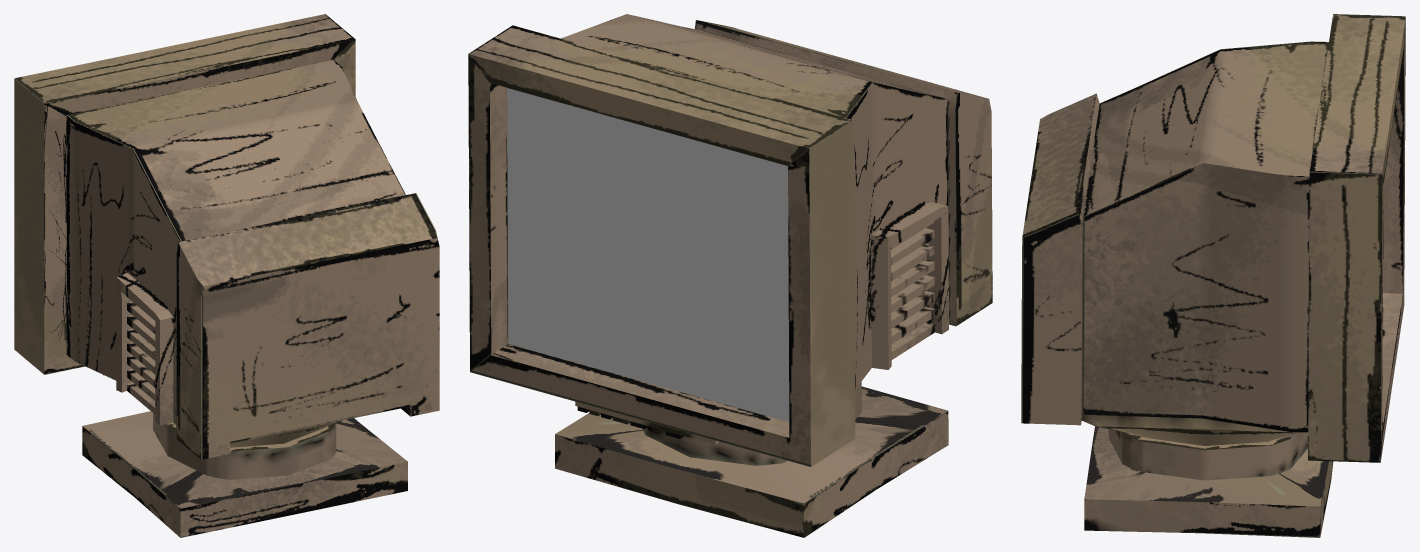
3 views of the same model, side by side, from view 1: azimuth 30°, elevation 25°; view 2: azimuth 150°, elevation 25°; view 3: azimuth 270°, elevation 25° (orthographic). The views are drawn at different scales.
Parts seen in each view (by area): view 1: PC-2; view 2: PC-2, PC-2-Screen; view 3: PC-2.
Part boxes in pixels (left/top/right/bottom): PC-2: left=14, top=14, right=439, bottom=537; PC-2: left=468, top=14, right=992, bottom=537; PC-2-Screen: left=507, top=88, right=789, bottom=421; PC-2: left=1021, top=14, right=1405, bottom=537.
Size of the model in its own units: 11.79 by 13.42 by 12.04.
1 material, 1 textured.
